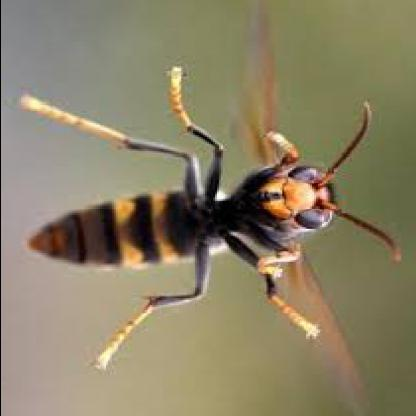asian: (32, 40, 398, 385)
